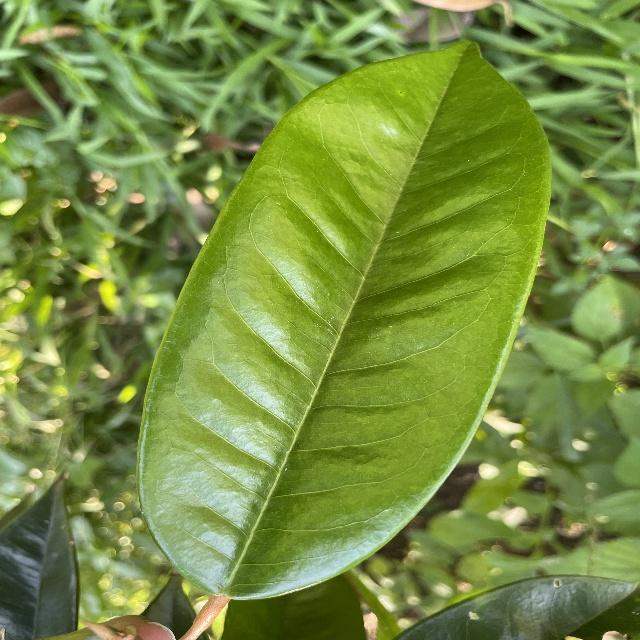No Disease: (129, 36, 561, 611)
